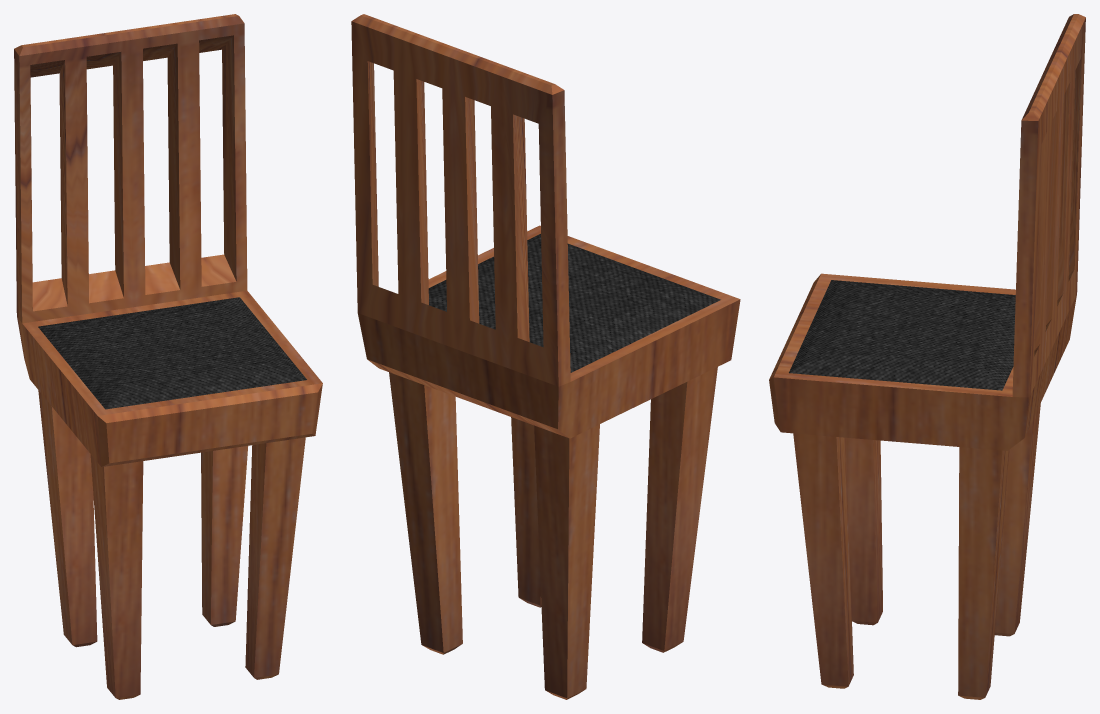
The model's file is chair.glb.
3 renders of one model, left to right at view 1: azimuth 30°, elevation 25°; view 2: azimuth 150°, elevation 25°; view 3: azimuth 270°, elevation 25°, orthographic. The views are drawn at different scales.
Visible parts, largest first — view 1: Cube; view 2: Cube; view 3: Cube.
Boxes of the visible parts, box(x1,y1,x2,y2) form: Cube: box(14, 14, 322, 699); Cube: box(351, 14, 740, 699); Cube: box(769, 14, 1085, 699).
Size of the model in its own units: 2.24 by 5.05 by 2.39.
1 material, 1 textured.
